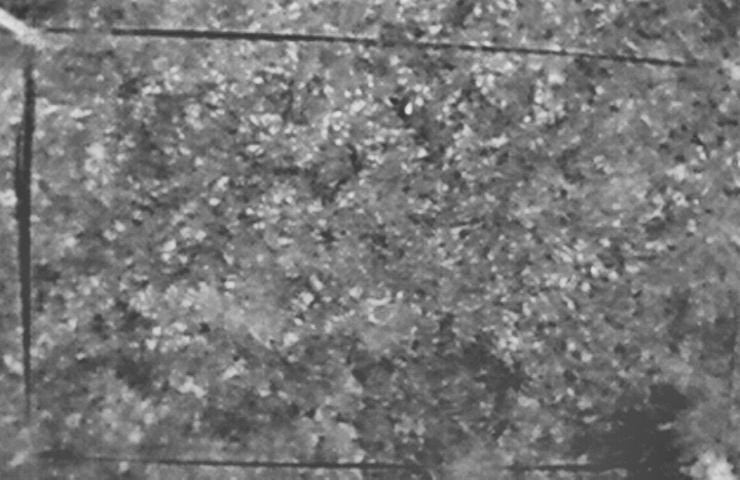landmines: (365, 299, 401, 329)
